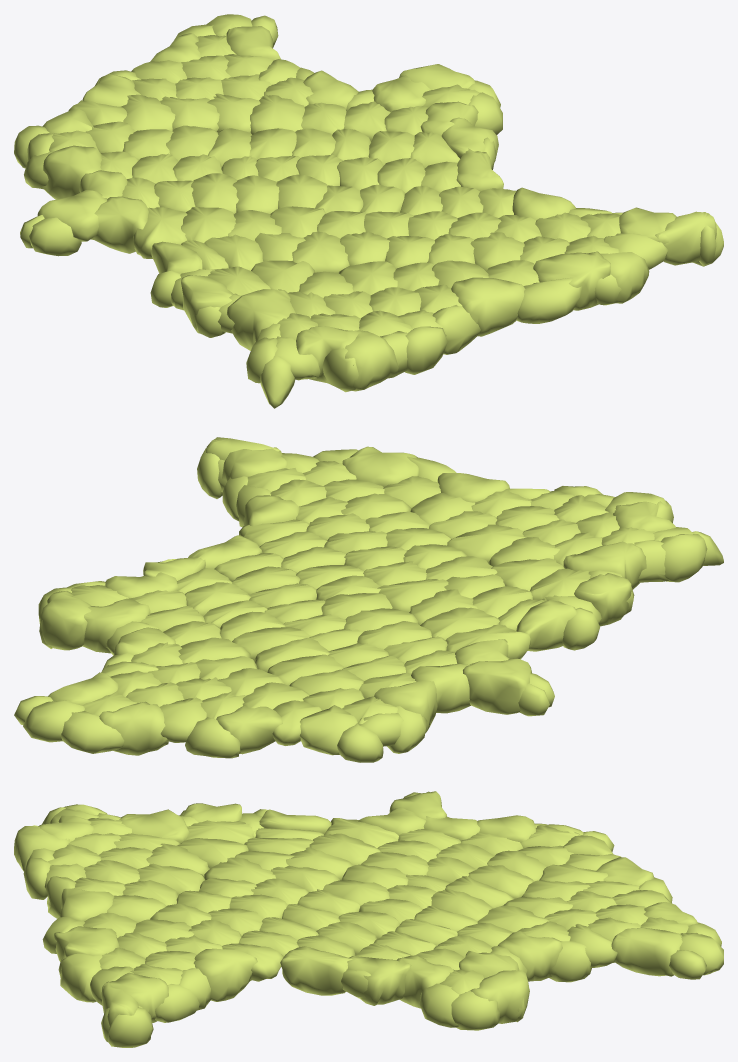
File: Islands5.001_fog.fbx
The picture shows the model from 3 angles, top to bottom: view 1: azimuth 30°, elevation 25°; view 2: azimuth 150°, elevation 25°; view 3: azimuth 270°, elevation 25°; orthographic projection. The views are drawn at different scales.
Visible parts, largest first — view 1: Island5.001_fog_cell.141, Island5.001_fog_cell.038, Island5.001_fog_cell.052, Island5.001_fog_cell.092, Island5.001_fog_cell.051, Island5.001_fog_cell.109, Island5.001_fog_cell.050, Island5.001_fog_cell.138, Island5.001_fog_cell.032, Island5.001_fog_cell.055, Island5.001_fog_cell.086, Island5.001_fog_cell.126 (+110 smaller); view 2: Island5.001_fog_cell.138, Island5.001_fog_cell.035, Island5.001_fog_cell.062, Island5.001_fog_cell.038, Island5.001_fog_cell.052, Island5.001_fog_cell.058, Island5.001_fog_cell.084, Island5.001_fog_cell.135, Island5.001_fog_cell.066, Island5.001_fog_cell.091, Island5.001_fog_cell.054, Island5.001_fog_cell.053 (+109 smaller); view 3: Island5.001_fog_cell.041, Island5.001_fog_cell.136, Island5.001_fog_cell.073, Island5.001_fog_cell.065, Island5.001_fog_cell.062, Island5.001_fog_cell.122, Island5.001_fog_cell.052, Island5.001_fog_cell.106, Island5.001_fog_cell.044, Island5.001_fog_cell.038, Island5.001_fog_cell.024, Island5.001_fog_cell.123 (+109 smaller).
Boxes of the visible parts, bbox=[...] form: Island5.001_fog_cell.141: bbox=[451, 277, 525, 336]; Island5.001_fog_cell.038: bbox=[227, 289, 295, 350]; Island5.001_fog_cell.052: bbox=[533, 251, 610, 310]; Island5.001_fog_cell.092: bbox=[90, 196, 148, 253]; Island5.001_fog_cell.051: bbox=[42, 145, 101, 199]; Island5.001_fog_cell.109: bbox=[516, 277, 582, 323]; Island5.001_fog_cell.050: bbox=[345, 330, 398, 391]; Island5.001_fog_cell.138: bbox=[37, 190, 107, 241]; Island5.001_fog_cell.032: bbox=[655, 211, 716, 265]; Island5.001_fog_cell.055: bbox=[133, 207, 187, 258]; Island5.001_fog_cell.086: bbox=[292, 231, 349, 273]; Island5.001_fog_cell.126: bbox=[250, 95, 304, 134]; Island5.001_fog_cell.138: bbox=[463, 658, 531, 714]; Island5.001_fog_cell.035: bbox=[99, 701, 168, 755]; Island5.001_fog_cell.062: bbox=[39, 591, 91, 650]; Island5.001_fog_cell.038: bbox=[563, 541, 646, 589]; Island5.001_fog_cell.052: bbox=[342, 446, 419, 486]; Island5.001_fog_cell.058: bbox=[516, 600, 577, 651]; Island5.001_fog_cell.084: bbox=[82, 598, 150, 653]; Island5.001_fog_cell.135: bbox=[216, 705, 282, 754]; Island5.001_fog_cell.066: bbox=[574, 573, 631, 626]; Island5.001_fog_cell.091: bbox=[61, 711, 124, 753]; Island5.001_fog_cell.054: bbox=[300, 705, 357, 755]; Island5.001_fog_cell.053: bbox=[411, 663, 471, 713]; Island5.001_fog_cell.041: bbox=[611, 928, 682, 976]; Island5.001_fog_cell.136: bbox=[280, 946, 352, 995]; Island5.001_fog_cell.073: bbox=[193, 948, 257, 1001]; Island5.001_fog_cell.065: bbox=[347, 956, 411, 1005]; Island5.001_fog_cell.062: bbox=[470, 970, 529, 1023]; Island5.001_fog_cell.122: bbox=[498, 931, 562, 981]; Island5.001_fog_cell.052: bbox=[54, 926, 119, 961]; Island5.001_fog_cell.106: bbox=[451, 990, 500, 1030]; Island5.001_fog_cell.044: bbox=[60, 953, 102, 1002]; Island5.001_fog_cell.038: bbox=[119, 809, 189, 843]; Island5.001_fog_cell.024: bbox=[396, 955, 453, 1008]; Island5.001_fog_cell.123: bbox=[102, 972, 168, 1022].
Bounding box in the file's own units: 117 × 11.07 × 152.
